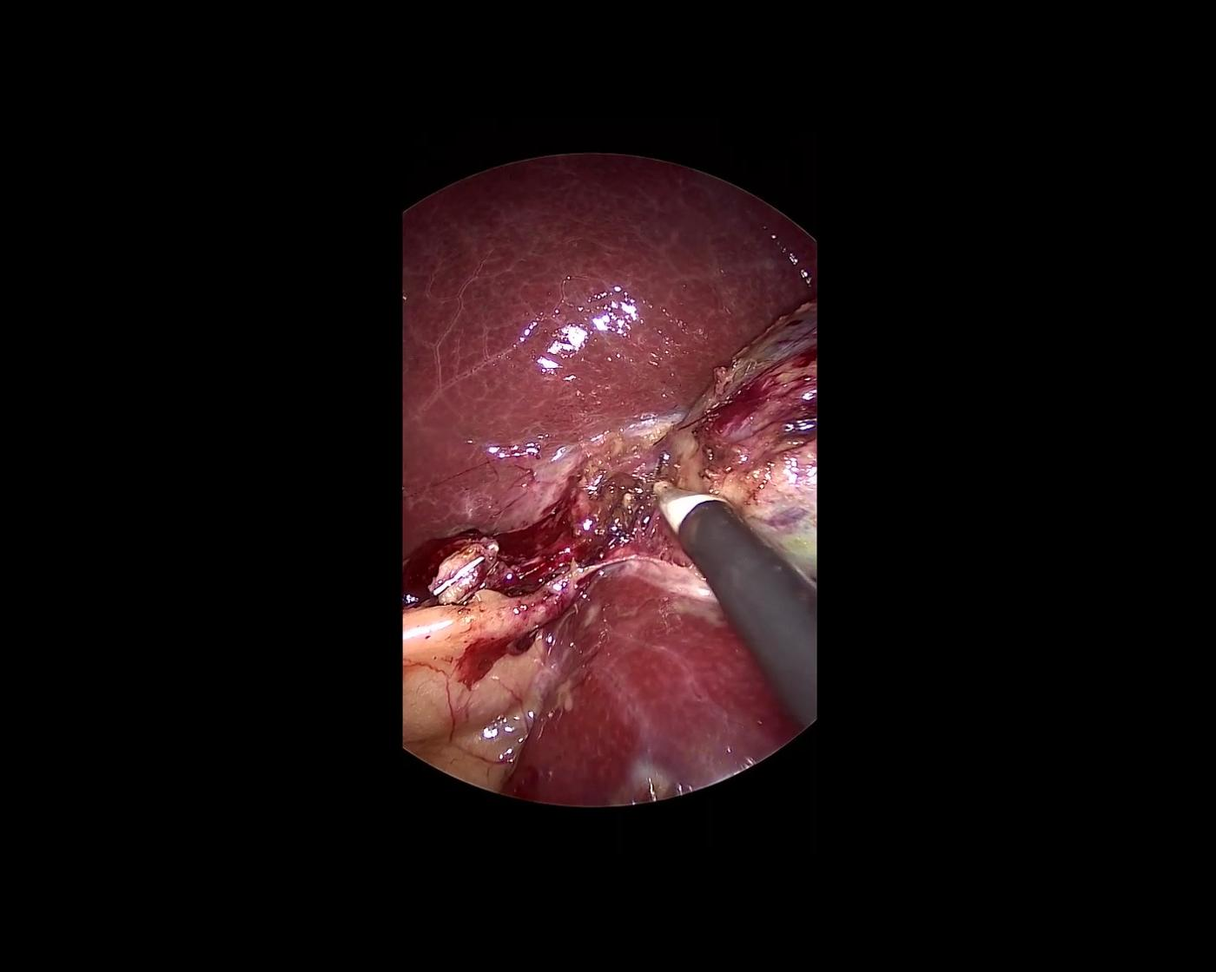Cautery: (628, 440, 878, 729)
Gallbladder: (658, 300, 814, 580)
Liver: (404, 157, 810, 557), (435, 533, 798, 885)
